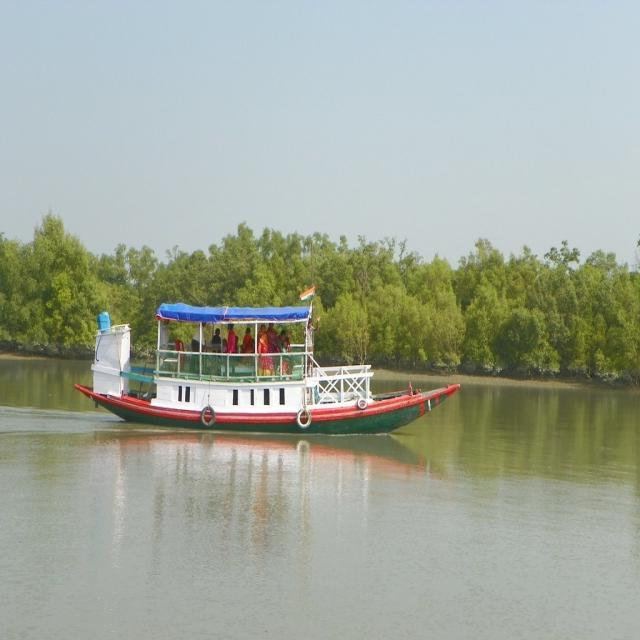boat: (66, 362, 465, 436)
